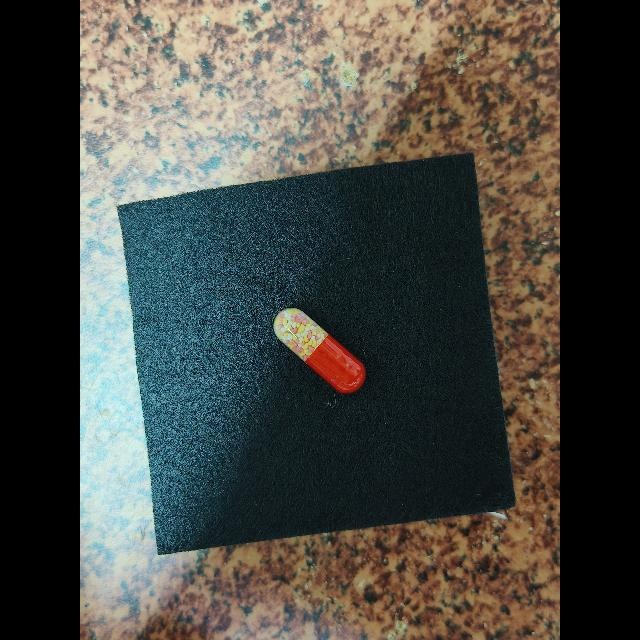Intact Capsule: (274, 308, 366, 393)
